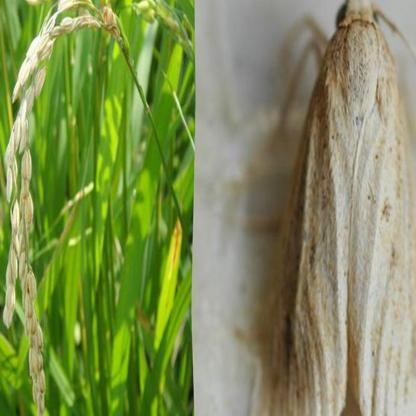stem-borer: (267, 0, 416, 416)
